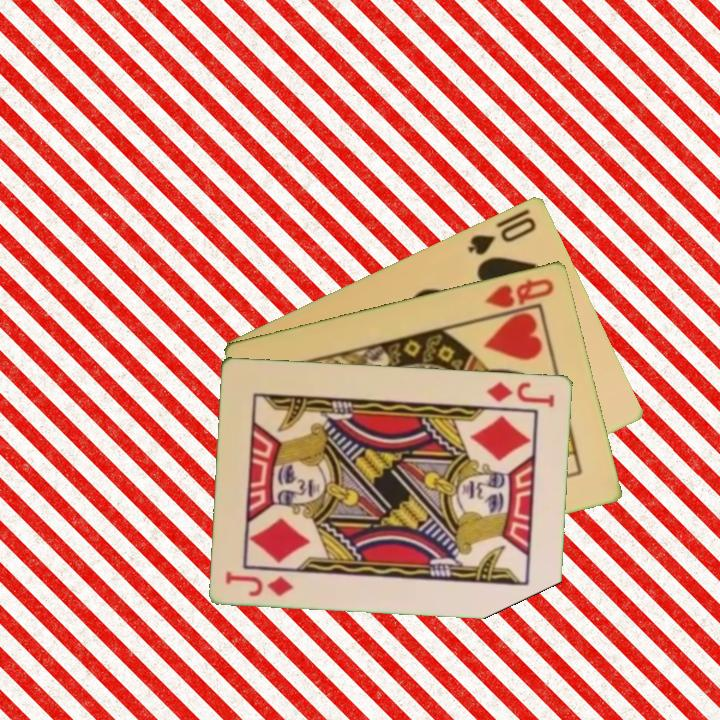10s: (464, 212, 540, 258)
Jd: (222, 567, 297, 599), (484, 377, 558, 409)
Qh: (481, 274, 557, 311)
